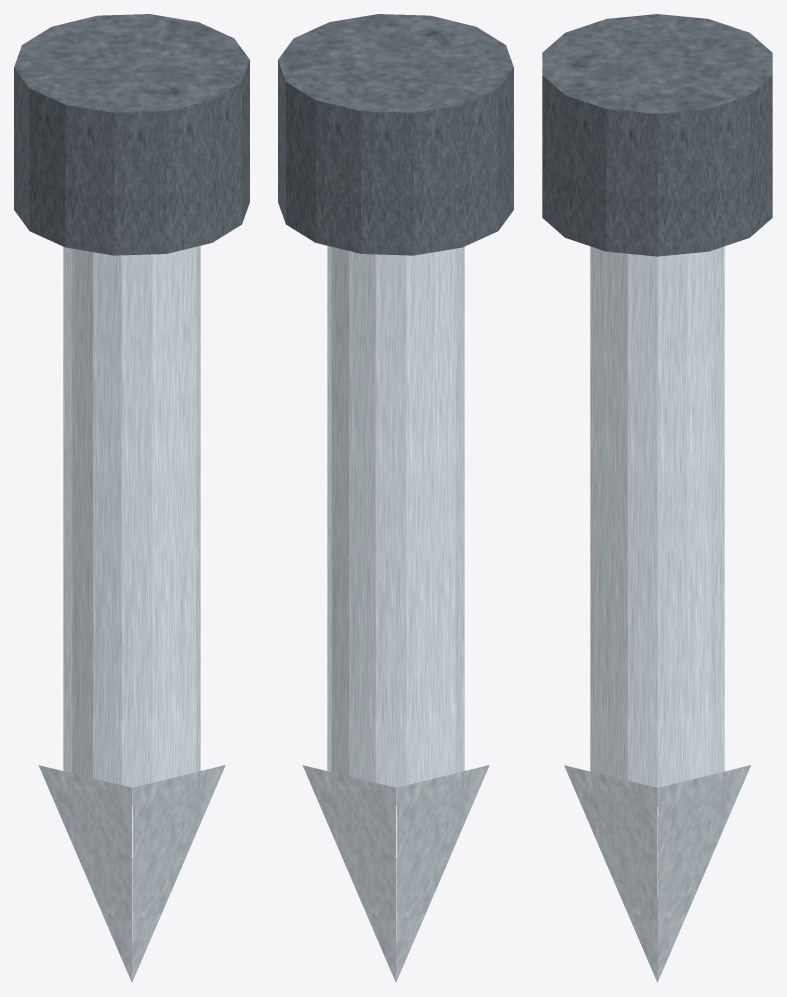
File: quarry_spindle.glb
The picture shows the model from 3 angles, left to right: view 1: azimuth 30°, elevation 25°; view 2: azimuth 150°, elevation 25°; view 3: azimuth 270°, elevation 25°; orthographic projection.
Parts seen in each view (by area): view 1: DrillHead; view 2: DrillHead; view 3: DrillHead.
Part boxes in pixels (bbox=[...]): DrillHead: bbox=[14, 14, 249, 982]; DrillHead: bbox=[278, 14, 513, 982]; DrillHead: bbox=[542, 14, 772, 982].
Size of the model in its own units: 0.24 by 1.03 by 0.234.
Materials: 1 (1 with a texture image).
